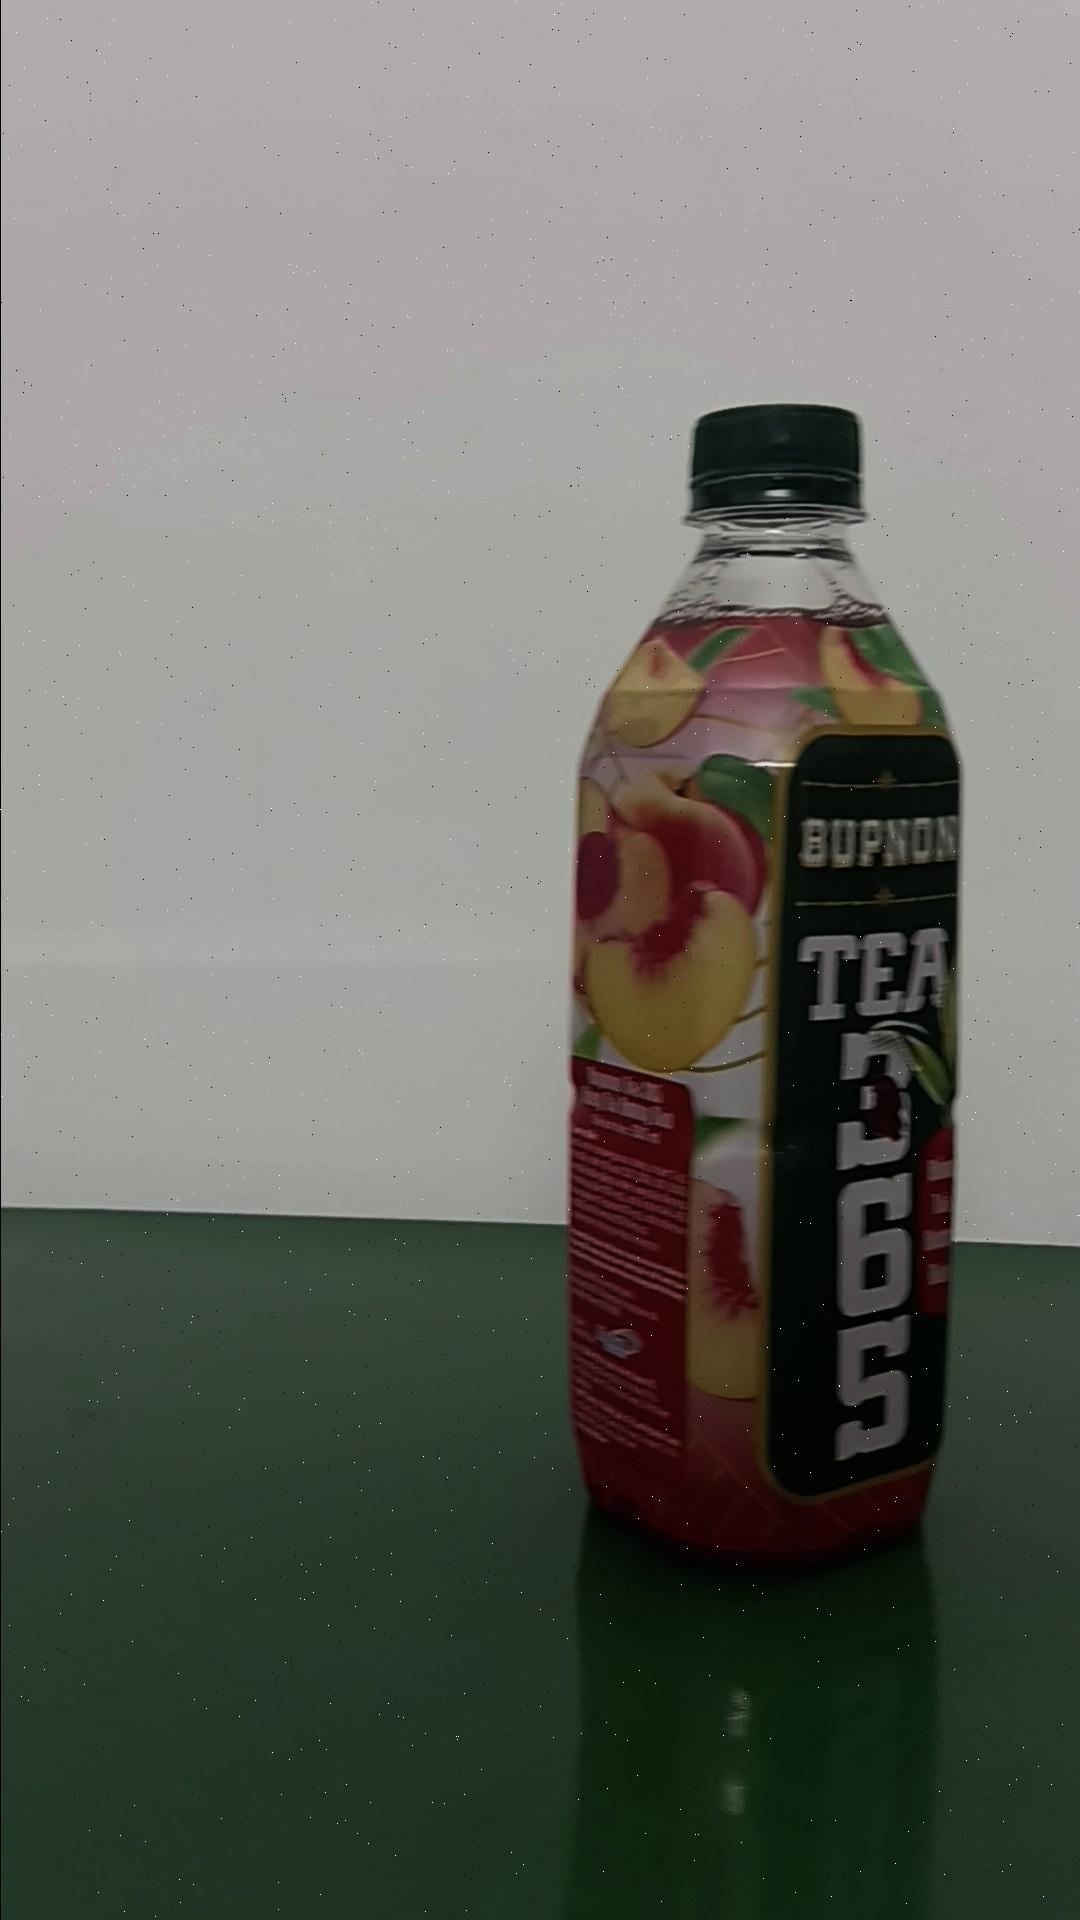loi rach va lap chai: (564, 397, 965, 1577)
